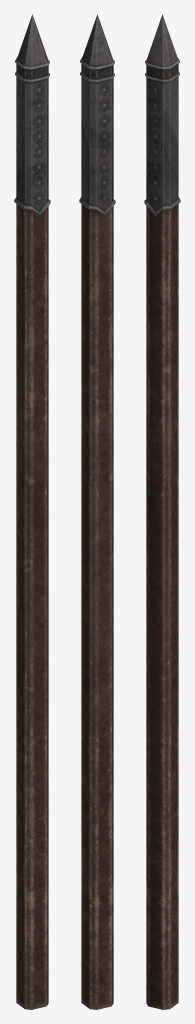
File: sm_dwarf_erebor_axe_handle_2h_b.fbx
3 views of the same model, side by side, from view 1: azimuth 30°, elevation 25°; view 2: azimuth 210°, elevation 25°; view 3: azimuth 330°, elevation 25° (orthographic).
Visible parts, largest first — view 1: sm_dwarf_erebor_axe_handle_2h_b; view 2: sm_dwarf_erebor_axe_handle_2h_b; view 3: sm_dwarf_erebor_axe_handle_2h_b.
Boxes of the visible parts, <box> form: sm_dwarf_erebor_axe_handle_2h_b: <box>14,14,50,1009</box>; sm_dwarf_erebor_axe_handle_2h_b: <box>79,14,115,1009</box>; sm_dwarf_erebor_axe_handle_2h_b: <box>144,14,180,1009</box>.
Bounding box in the file's own units: 0.0453 × 0.0453 × 1.6.
Materials: 1 (1 with a texture image).
